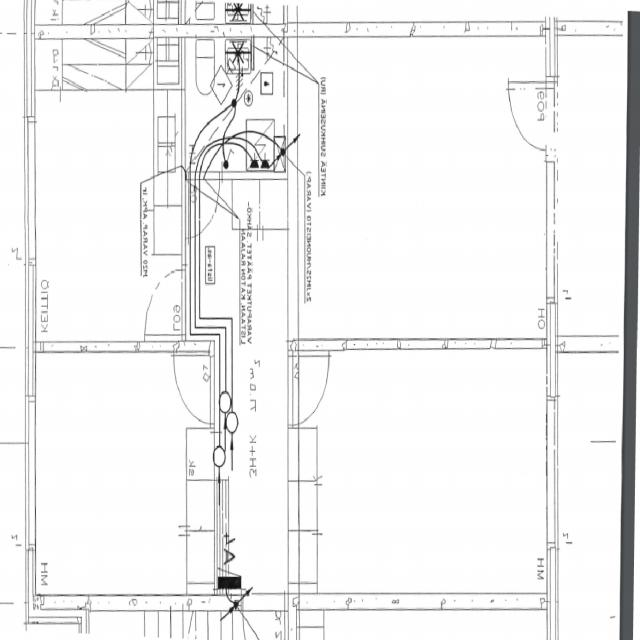door: (508, 82, 558, 151), (171, 355, 215, 424), (288, 356, 332, 424), (146, 269, 187, 335), (189, 170, 220, 234)
